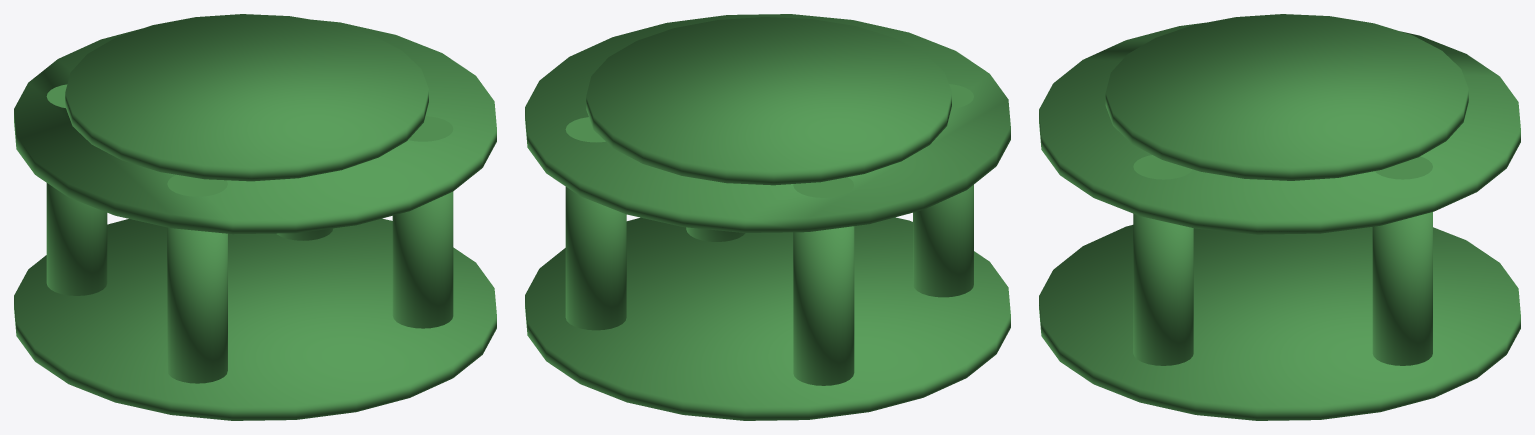
The model's file is JntBase.dae.
3 renders of one model, left to right at view 1: azimuth 30°, elevation 25°; view 2: azimuth 150°, elevation 25°; view 3: azimuth 270°, elevation 25°, orthographic.
Parts seen in each view (by area): view 1: SketchUp (×9); view 2: SketchUp (×10); view 3: SketchUp (×8).
Boxes of the visible parts, x1,y1,x2,y2 form: SketchUp (×9): (14,14,496,420); SketchUp (×10): (525,14,1010,420); SketchUp (×8): (1039,14,1520,420).
Bounding box in the file's own units: 62.71 × 62.71 × 32.48.
